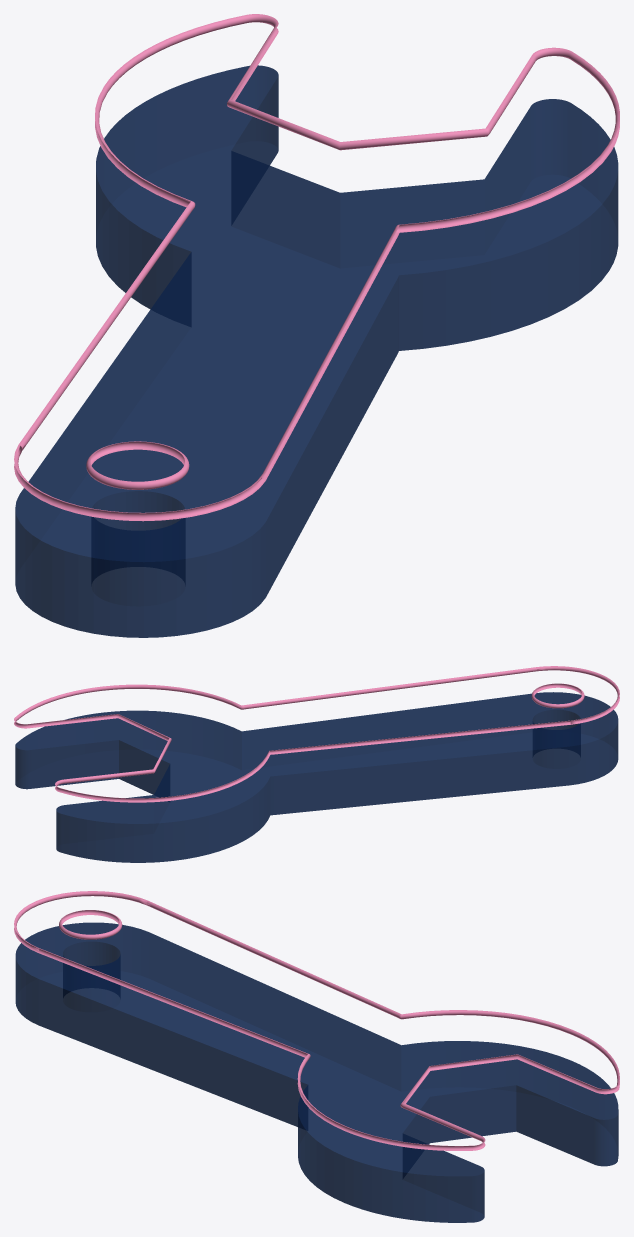
Rendered from Wrench01.gltf.
3 views of the same model, one above another, from view 1: azimuth 30°, elevation 25°; view 2: azimuth 150°, elevation 25°; view 3: azimuth 270°, elevation 25° (orthographic). The views are drawn at different scales.
Visible parts, largest first — view 1: Curve.001, Curve; view 2: Curve.001, Curve; view 3: Curve.001, Curve.
Boxes of the visible parts, x1,y1,x2,y2 form: Curve.001: (15,65,618,637); Curve: (14,14,619,521); Curve.001: (15,692,618,862); Curve: (14,666,619,802); Curve.001: (15,922,618,1222); Curve: (14,891,619,1150).
Size of the model in its own units: 5.74 by 0.8109 by 5.76.
